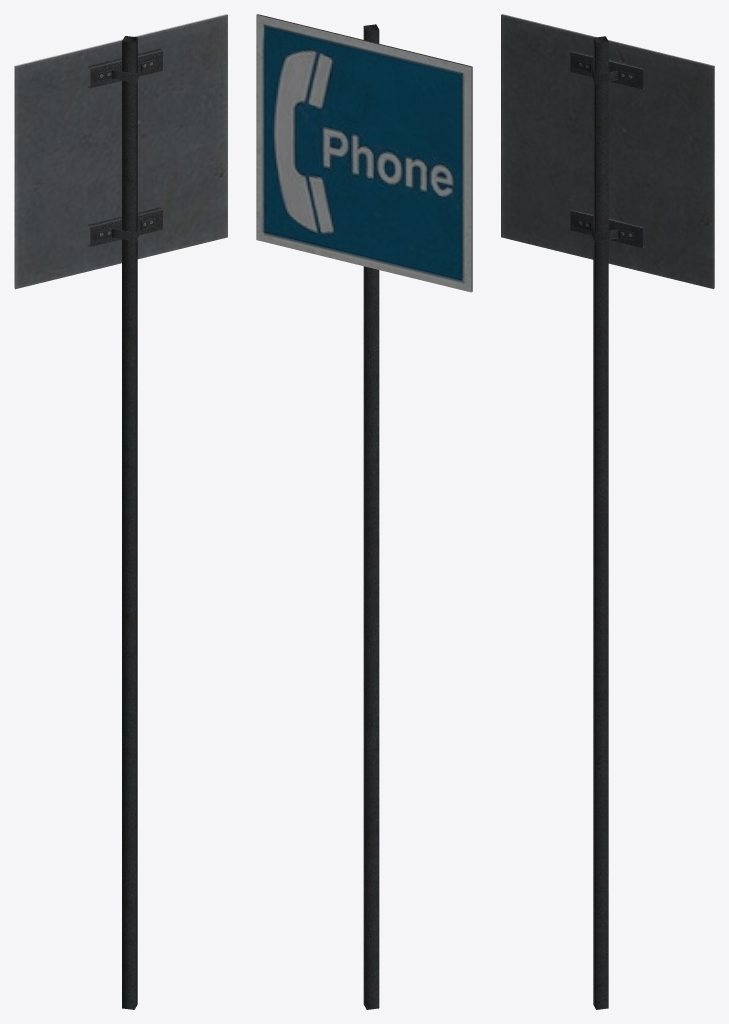
Rendered from Telephone.glb.
The picture shows the model from 3 angles, left to right: view 1: azimuth 30°, elevation 25°; view 2: azimuth 150°, elevation 25°; view 3: azimuth 330°, elevation 25°; orthographic projection.
Visible parts, largest first — view 1: Telephone__LOD1; view 2: Telephone__LOD1; view 3: Telephone__LOD1.
Part boxes in pixels (x1,y1,x2,y2): Telephone__LOD1: (14, 14, 227, 1009); Telephone__LOD1: (256, 14, 472, 1009); Telephone__LOD1: (501, 14, 714, 1009).
Size of the model in its own units: 0.6891 by 2.99 by 0.084.
1 material, 1 textured.
